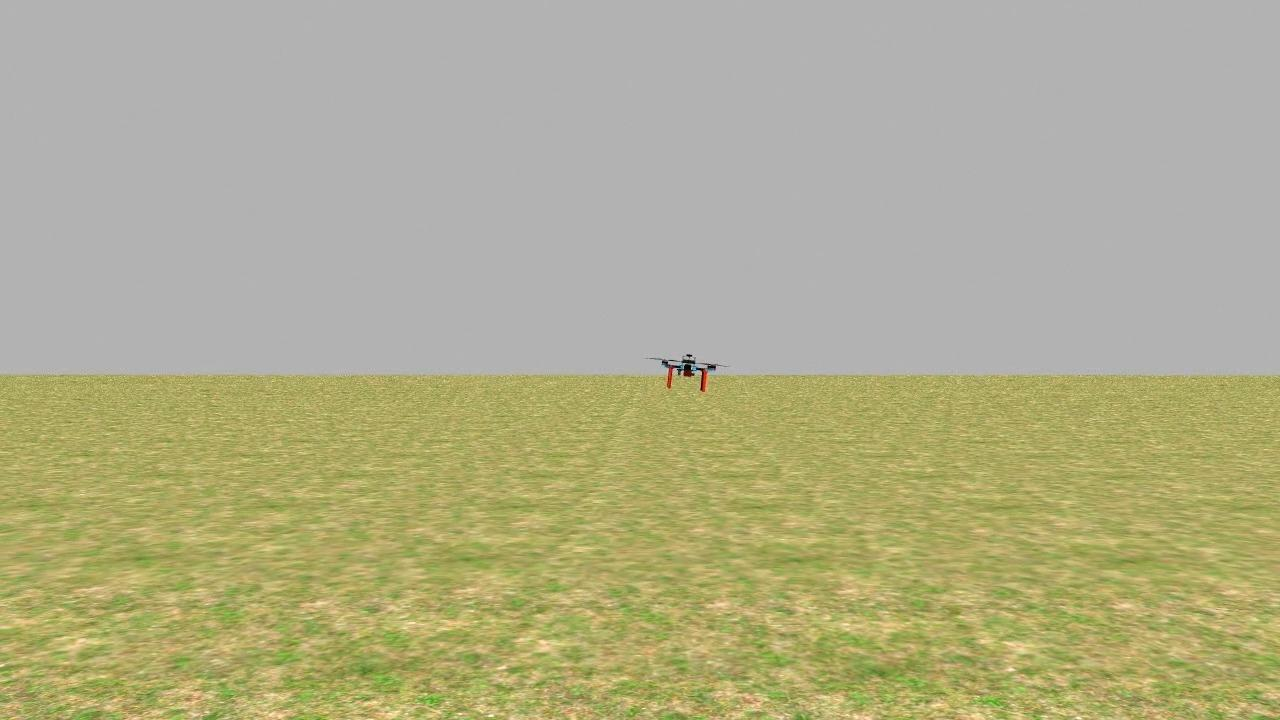UAV: (647, 345, 729, 399)
